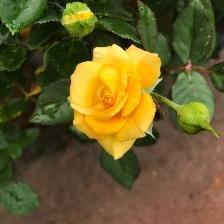rose: (66, 42, 165, 164)
